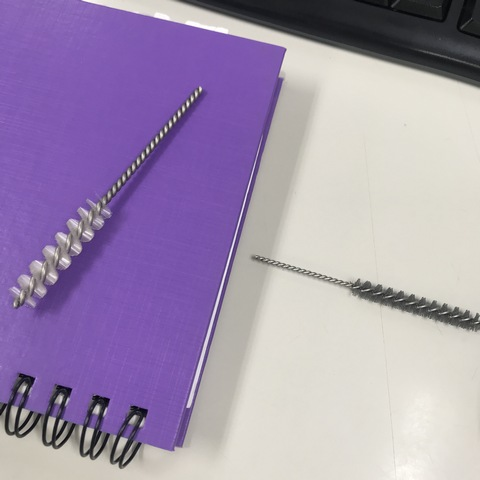Twist Brush-A: (251, 249, 480, 344)
Twist Brush-B: (8, 85, 208, 314)
